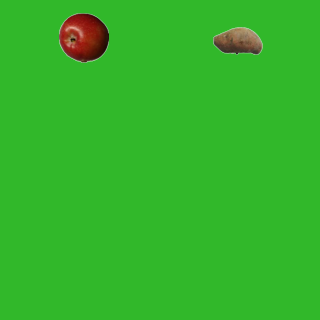Apple Braeburn: (58, 12, 108, 62)
Potato Sweet: (212, 15, 262, 65)
